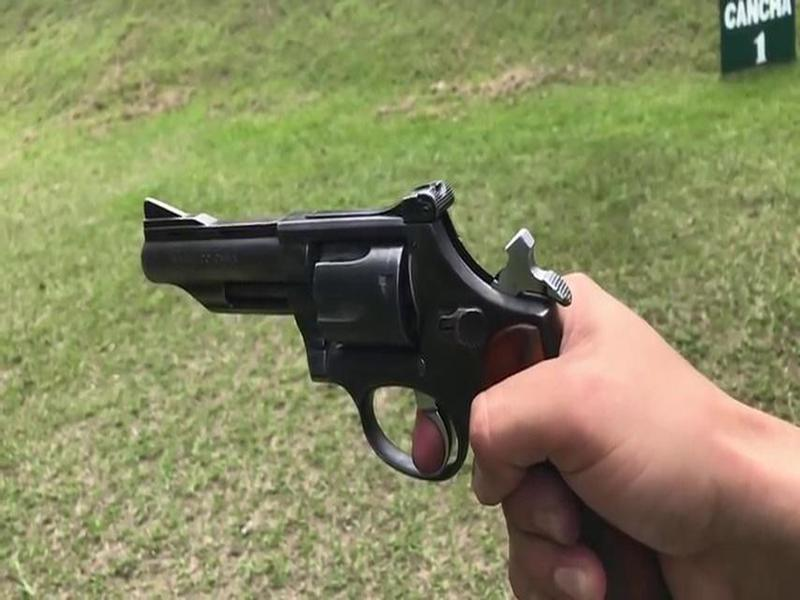Revolver: (129, 154, 587, 492)
